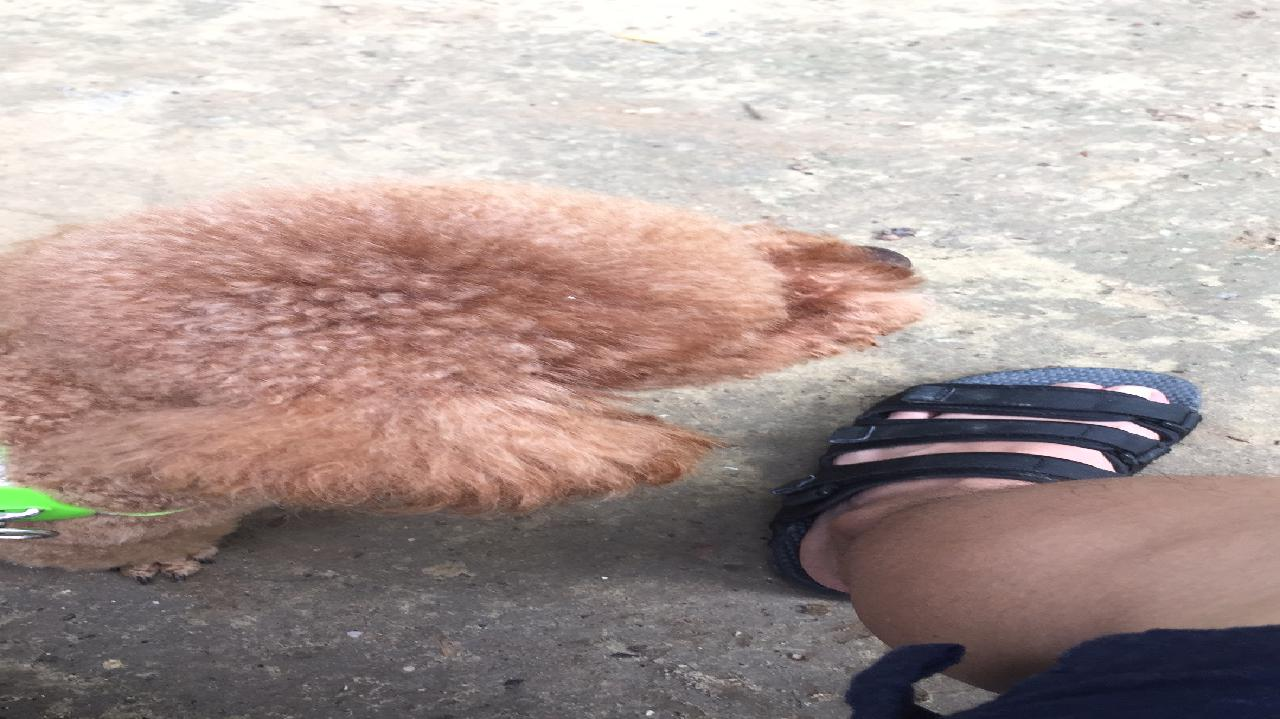coin: (1, 174, 913, 567)
